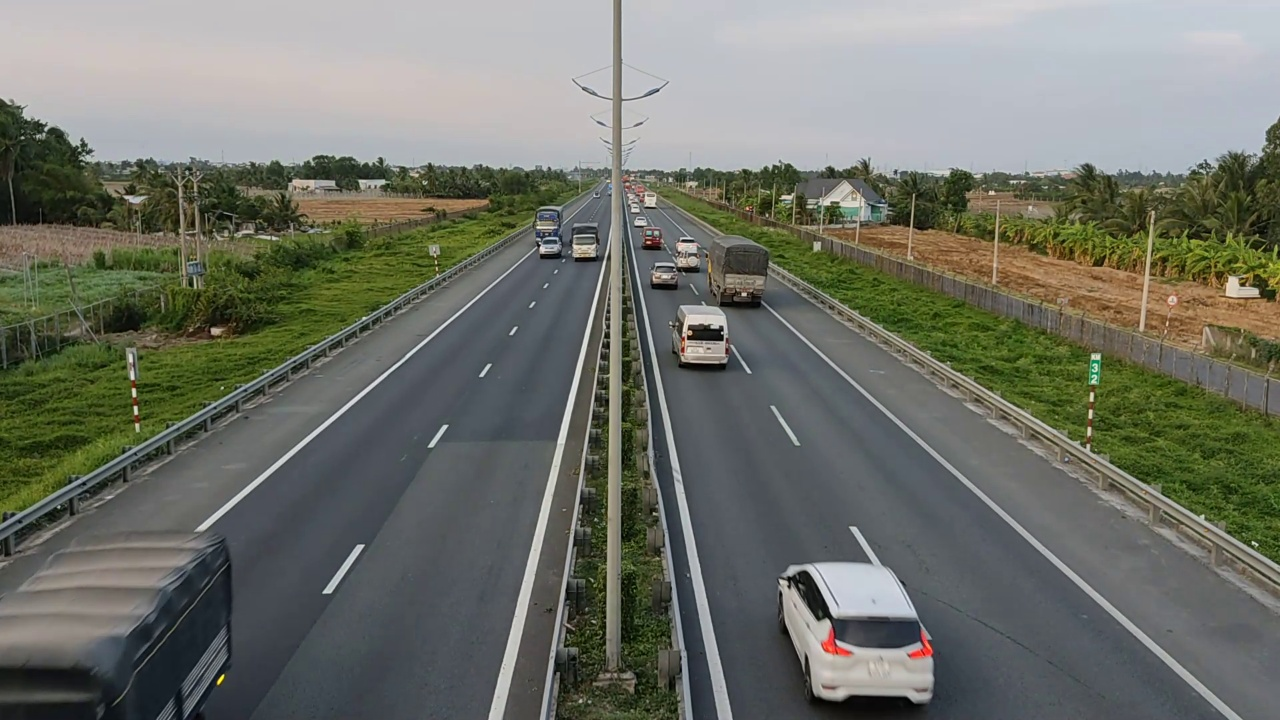car: (775, 561, 937, 707), (665, 298, 730, 370), (649, 262, 681, 289)
truck: (707, 233, 771, 305)
